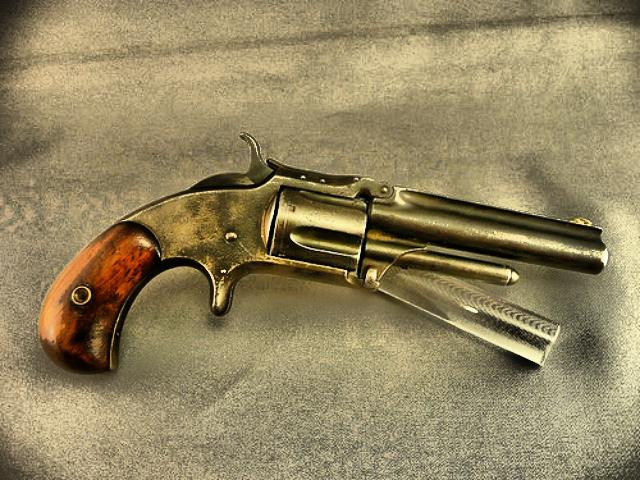pistol: (38, 130, 606, 374)
